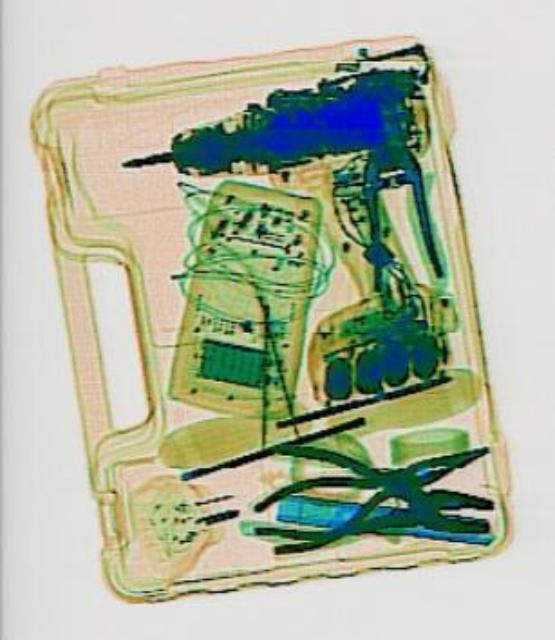Pliers: (245, 412, 494, 564), (249, 436, 496, 562), (350, 136, 440, 292)
